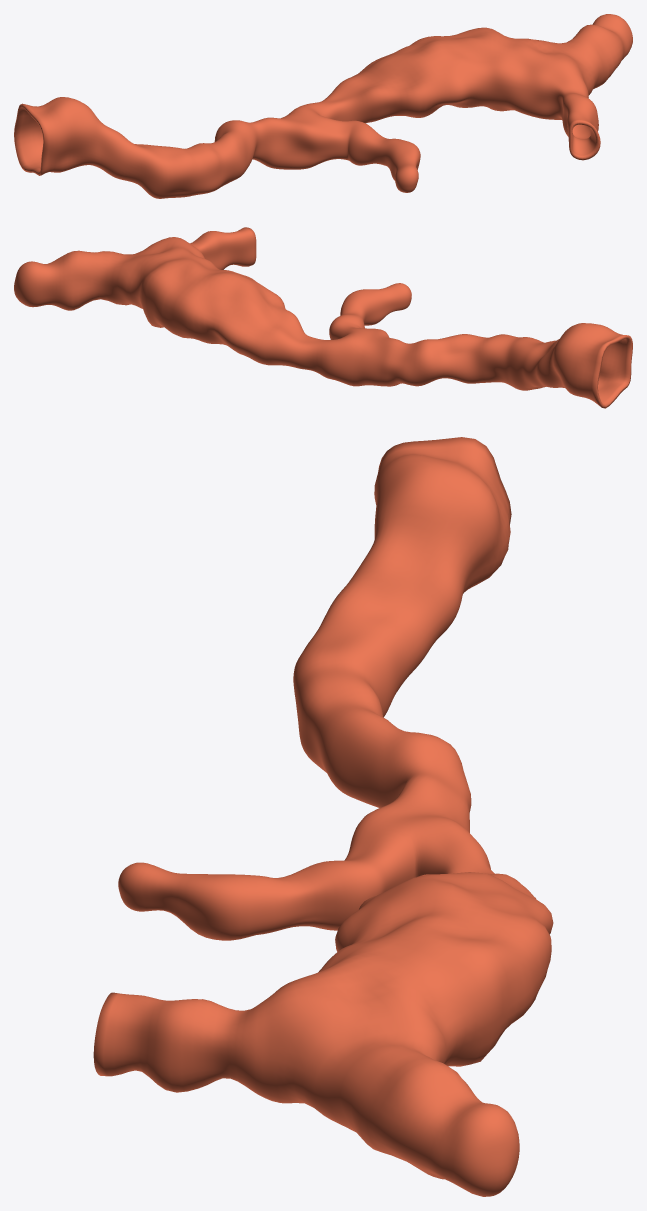
File: vr_veinspace.fbx
3 views of the same model, one above another, from view 1: azimuth 30°, elevation 25°; view 2: azimuth 150°, elevation 25°; view 3: azimuth 270°, elevation 25° (orthographic). The views are drawn at different scales.
Visible parts, largest first — view 1: Cube.001; view 2: Cube.001; view 3: Cube.001.
Part boxes in pixels (x1,y1,x2,y2): Cube.001: (14,14,632,198); Cube.001: (14,227,632,408); Cube.001: (93,437,553,1196).
Size of the model in its own units: 6641 by 3592 by 19754.
